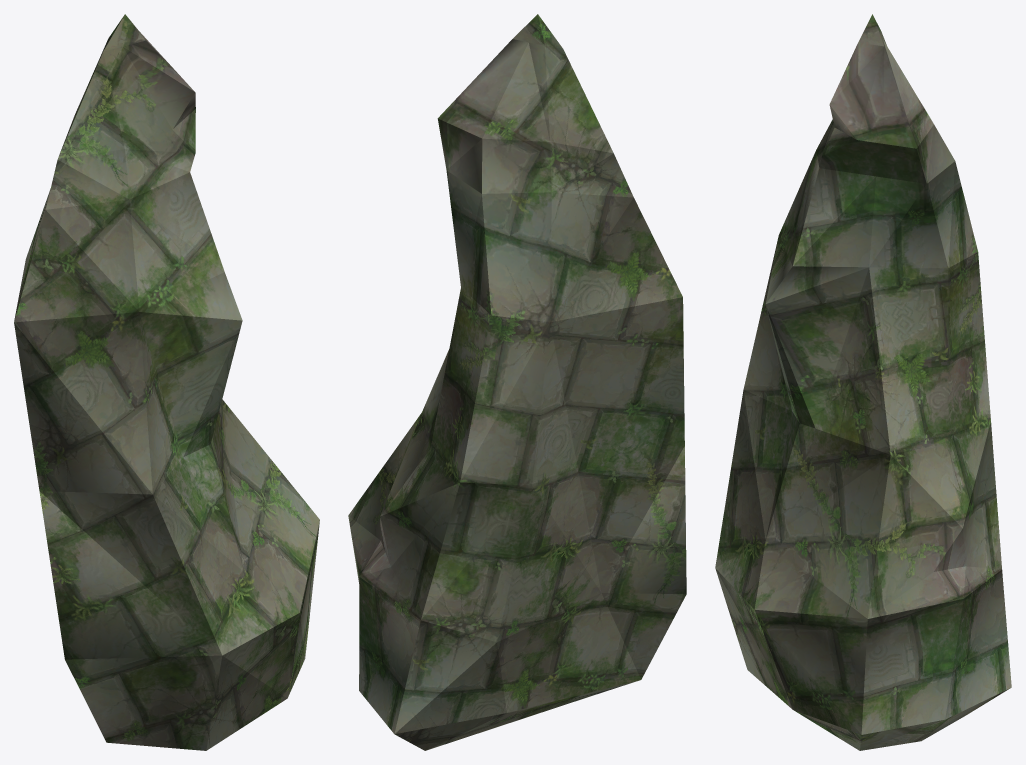
Rendered from Stone_01.glb.
The picture shows the model from 3 angles, left to right: view 1: azimuth 30°, elevation 25°; view 2: azimuth 150°, elevation 25°; view 3: azimuth 270°, elevation 25°; orthographic projection. The views are drawn at different scales.
Parts seen in each view (by area): view 1: Stone_01; view 2: Stone_01; view 3: Stone_01.
Boxes of the visible parts, bbox=[...] form: Stone_01: bbox=[14, 14, 319, 750]; Stone_01: bbox=[348, 14, 686, 750]; Stone_01: bbox=[715, 14, 1011, 750].
Size of what is drawn, in the model's own units: 2.32 by 4.98 by 1.98.
Materials: 1 (1 with a texture image).
